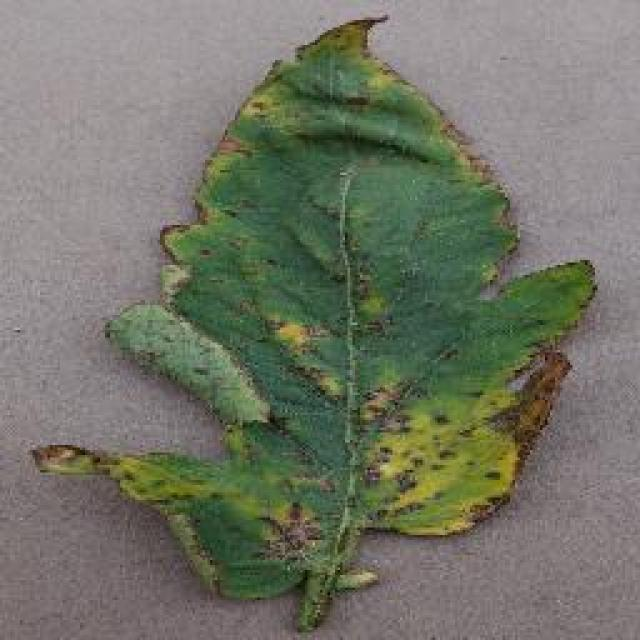bacterial spot: (30, 11, 598, 624)
